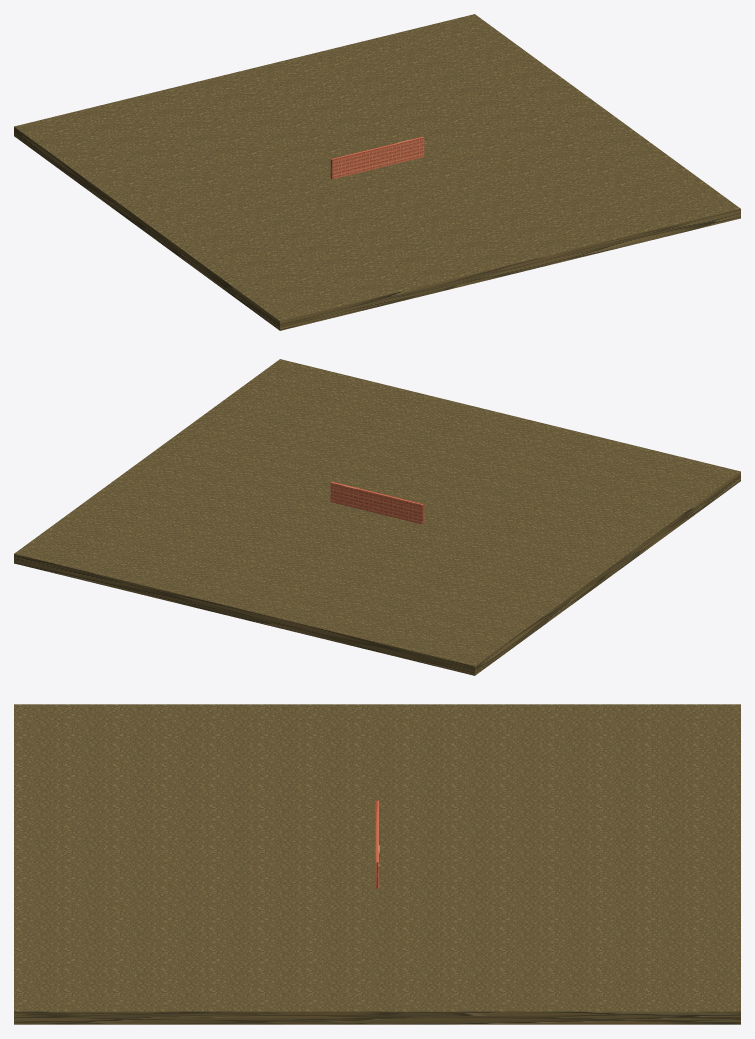
File: wooden_plane.glb
3 views of the same model, one above another, from view 1: azimuth 30°, elevation 25°; view 2: azimuth 150°, elevation 25°; view 3: azimuth 270°, elevation 25° (orthographic). The views are drawn at different scales.
Parts seen in each view (by area): view 1: Cube, Cube.001; view 2: Cube, Cube.001; view 3: Cube.
Part boxes in pixels (left/top/right/bottom): Cube: left=14, top=14, right=740, bottom=330; Cube.001: left=330, top=136, right=424, bottom=179; Cube: left=14, top=359, right=740, bottom=675; Cube.001: left=330, top=481, right=424, bottom=524; Cube: left=14, top=704, right=740, bottom=1024.
Bounding box in the file's own units: 100 × 6 × 100.
2 materials, 2 textured.
